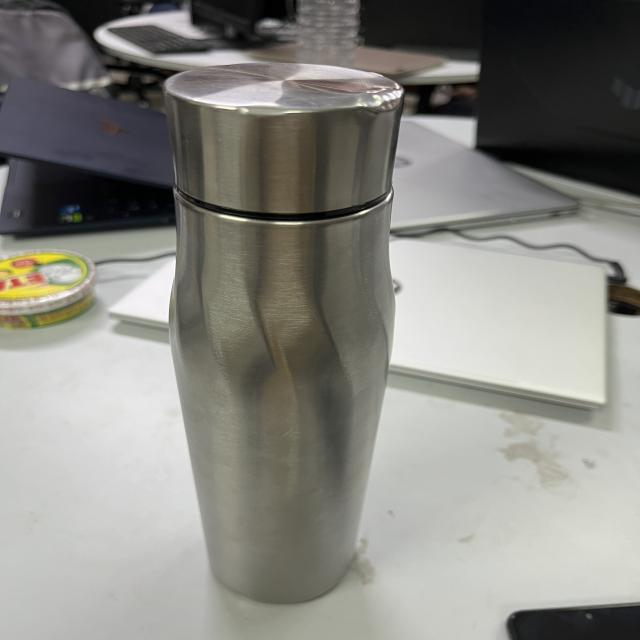L3: (140, 54, 408, 604)
